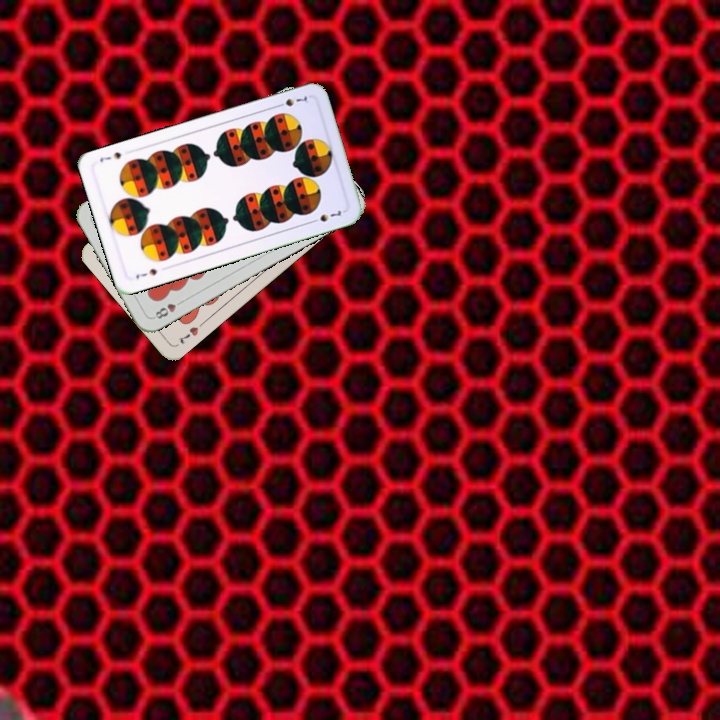H7: (175, 318, 207, 347)
H8: (149, 296, 186, 321)
S7: (272, 92, 310, 110), (132, 264, 160, 282)
